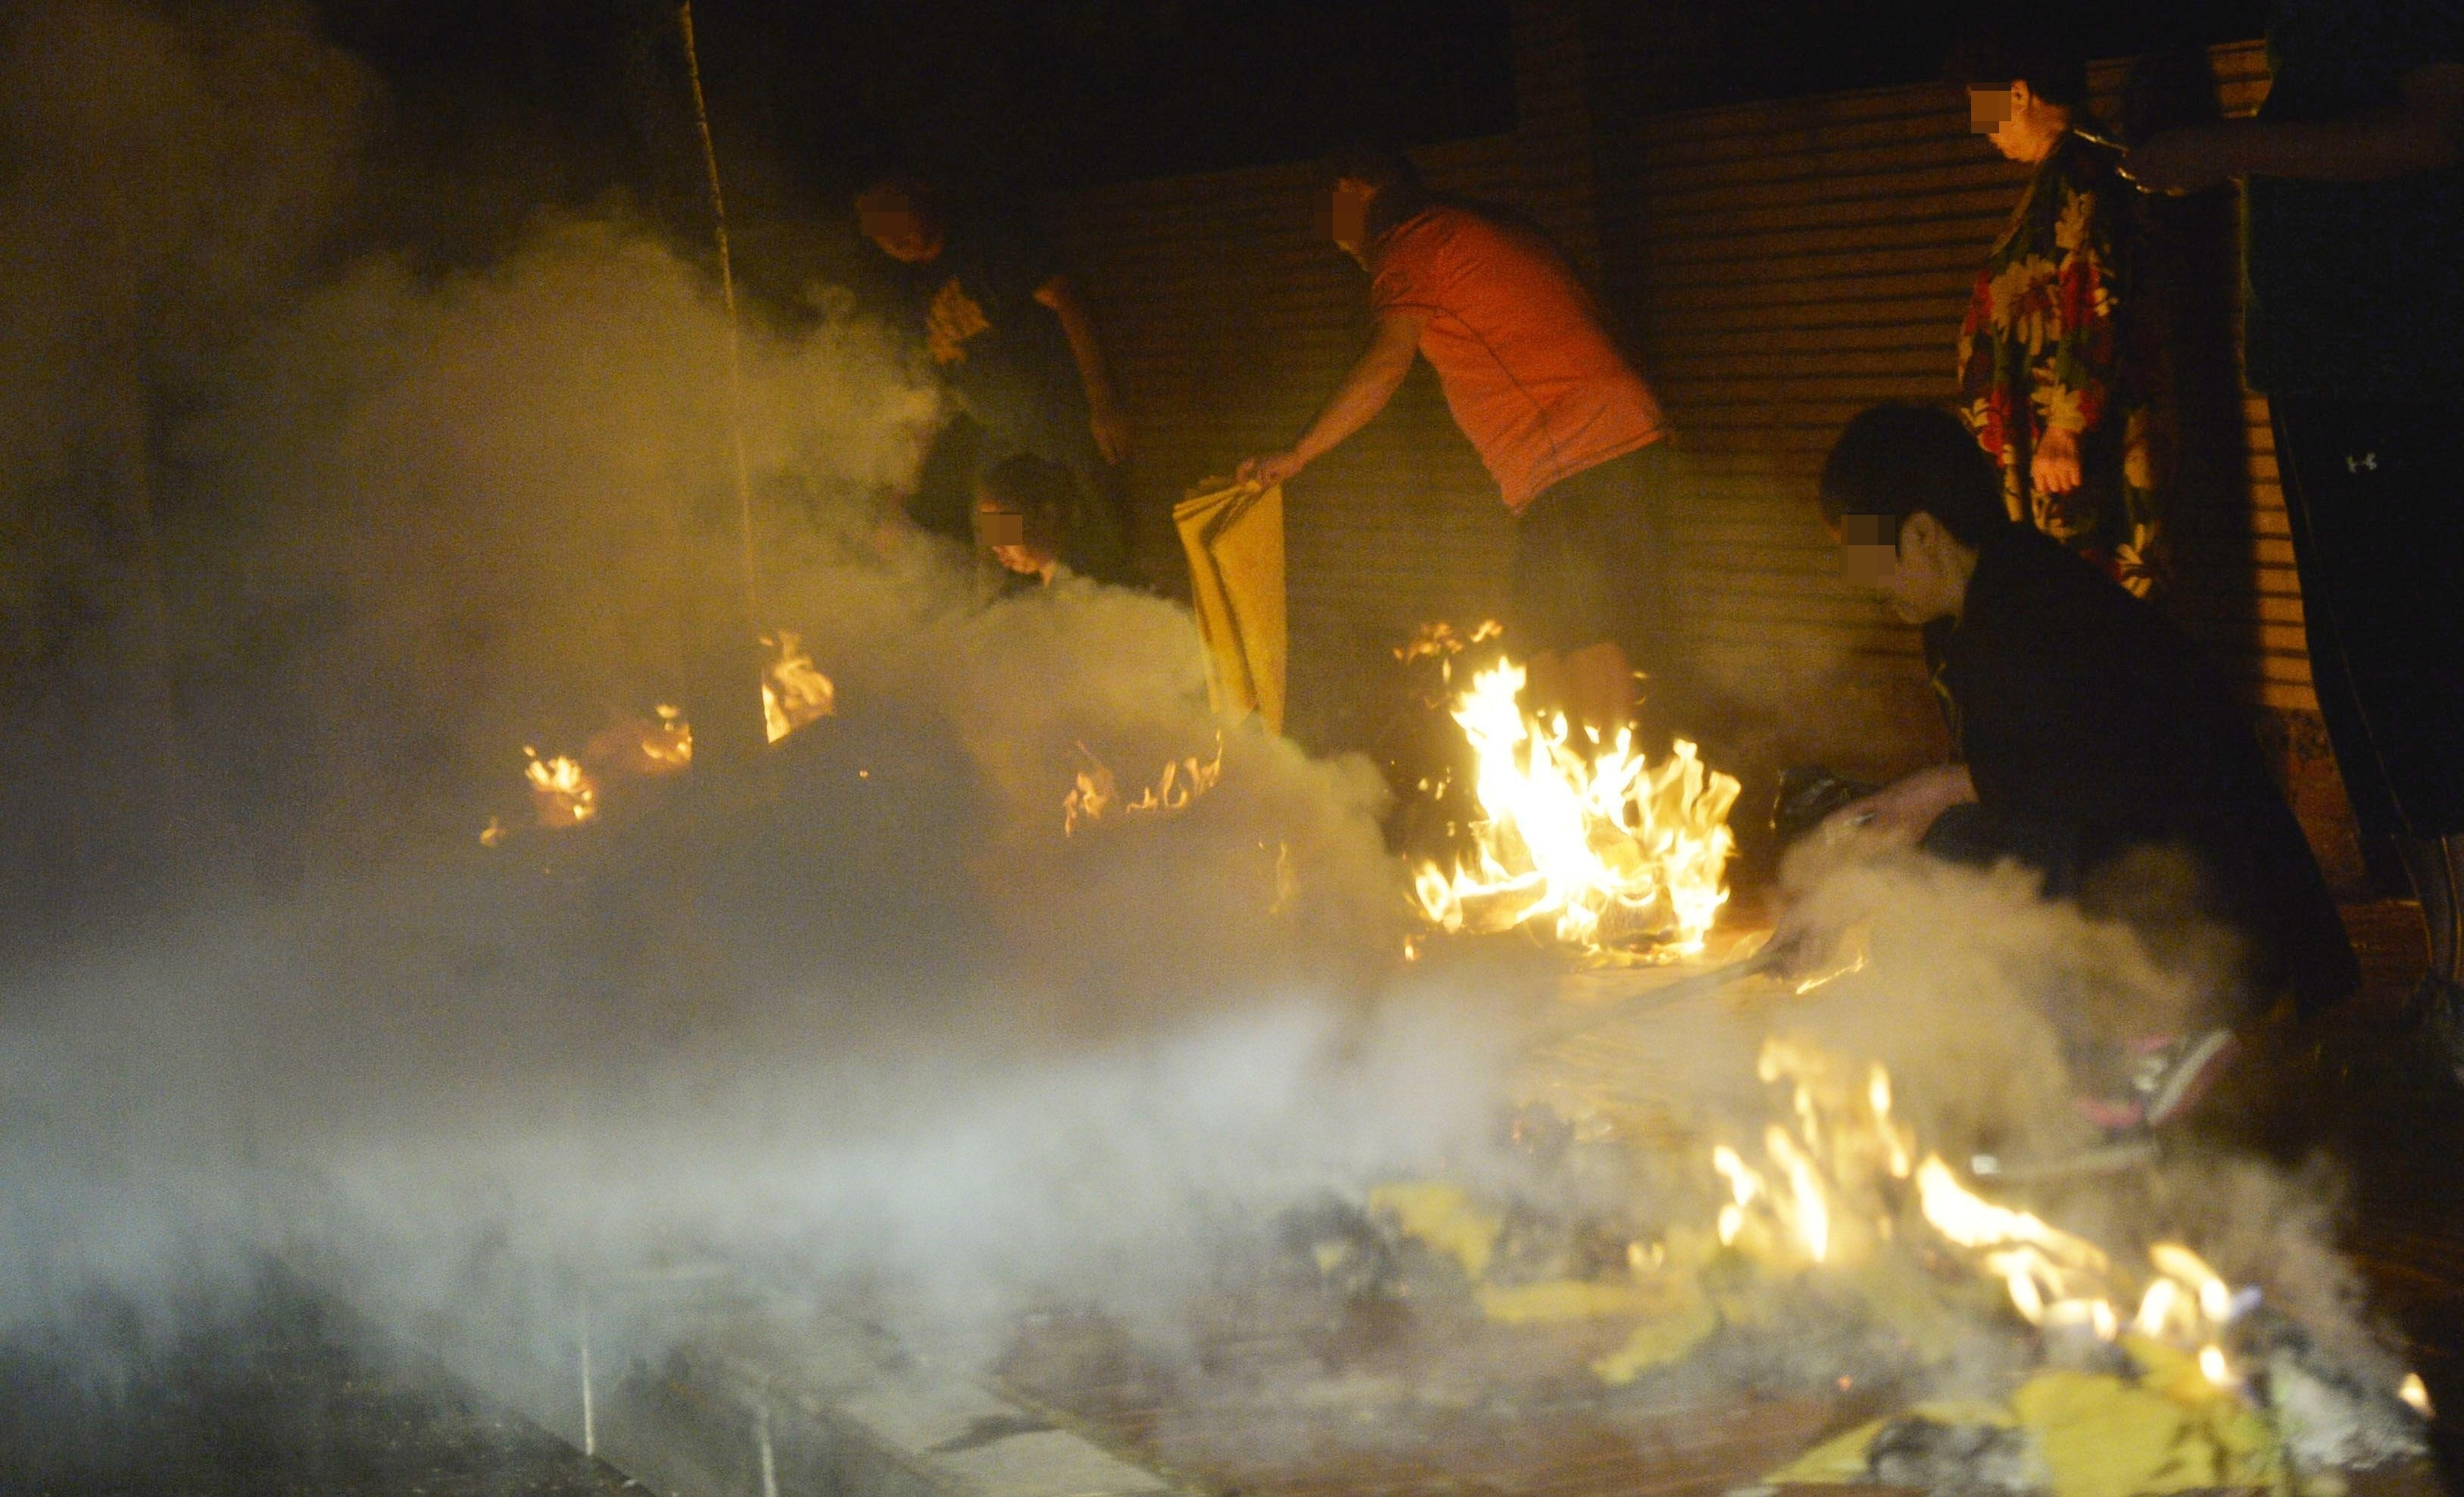fire: (1714, 1047, 2225, 1362), (1397, 617, 1742, 960), (484, 704, 646, 846), (753, 616, 838, 744)
